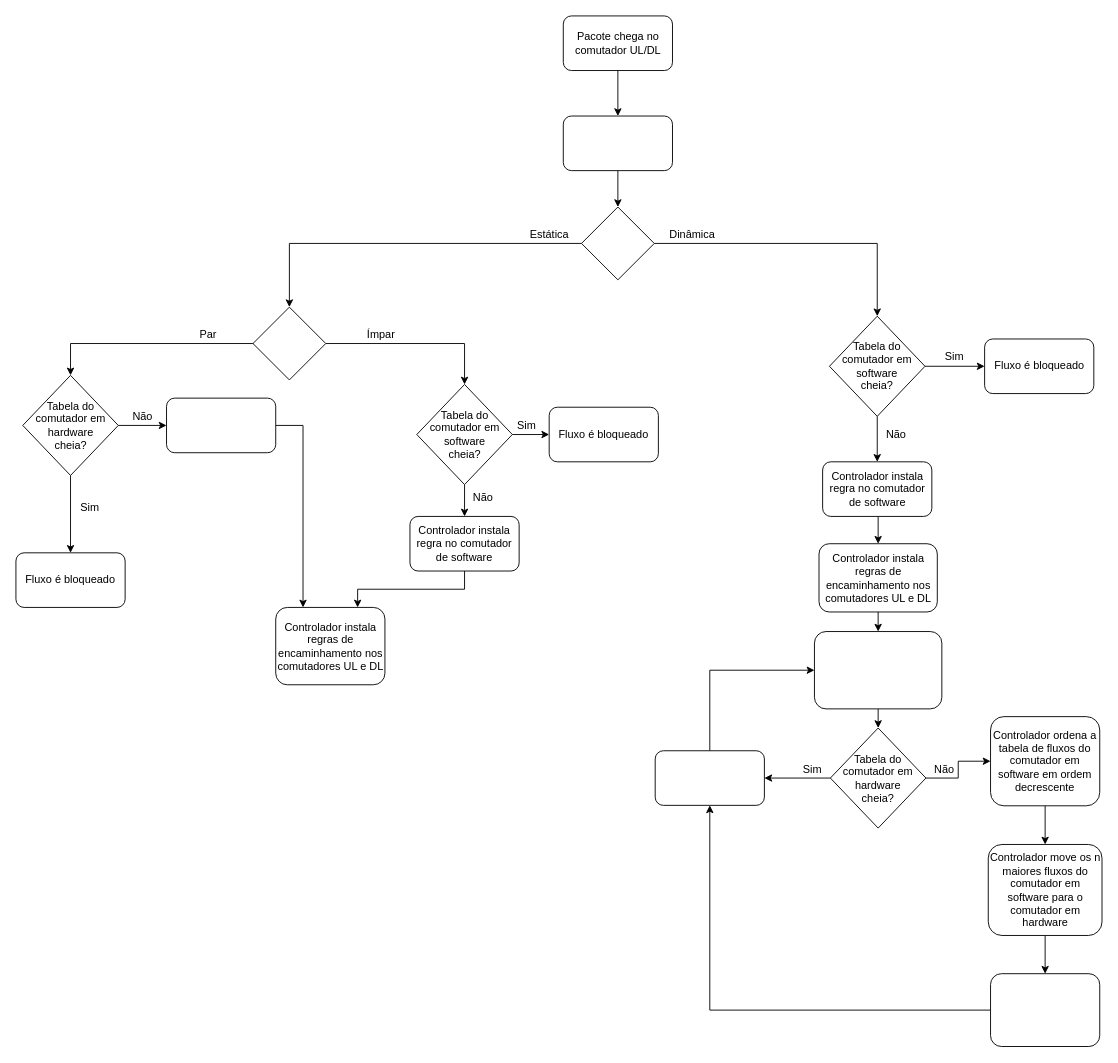
This 1118x1063 diagram has some shape labels left out. The shapes that lost their labels are listed below. From the top down, each one's centre as x and y in pixels, then its label:
At (617,143): "Comutador envia o pacote para o controlador".
At (617,243): "Política".
At (289,343): "Porta da aplicação".
At (221,425): "Controlador instala regra no comutador em hardware".
At (878,670): "Controlador verifica tabela de fluxos no comutadores de software e hardware".
At (709,777): "Espera (x segundos)".
At (1045,1009): "Controlador altera regras de encaminhamento nos comutadores UL e DL".
